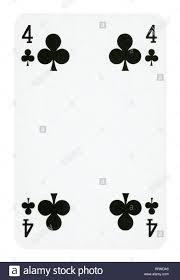four of clubs: (17, 18, 165, 250)
